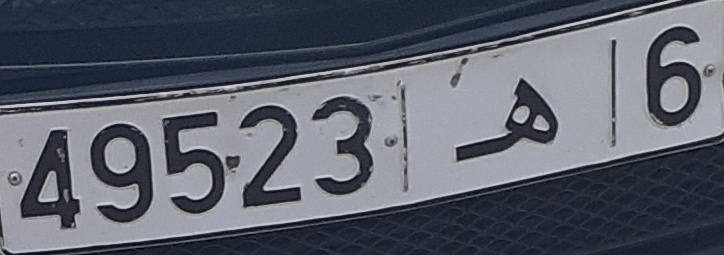2: (234, 103, 306, 210)
3: (307, 93, 377, 198)
4: (16, 127, 84, 231)
5: (157, 108, 228, 216)
6: (640, 25, 706, 130)
9: (86, 120, 157, 225)
h: (449, 76, 562, 164)
